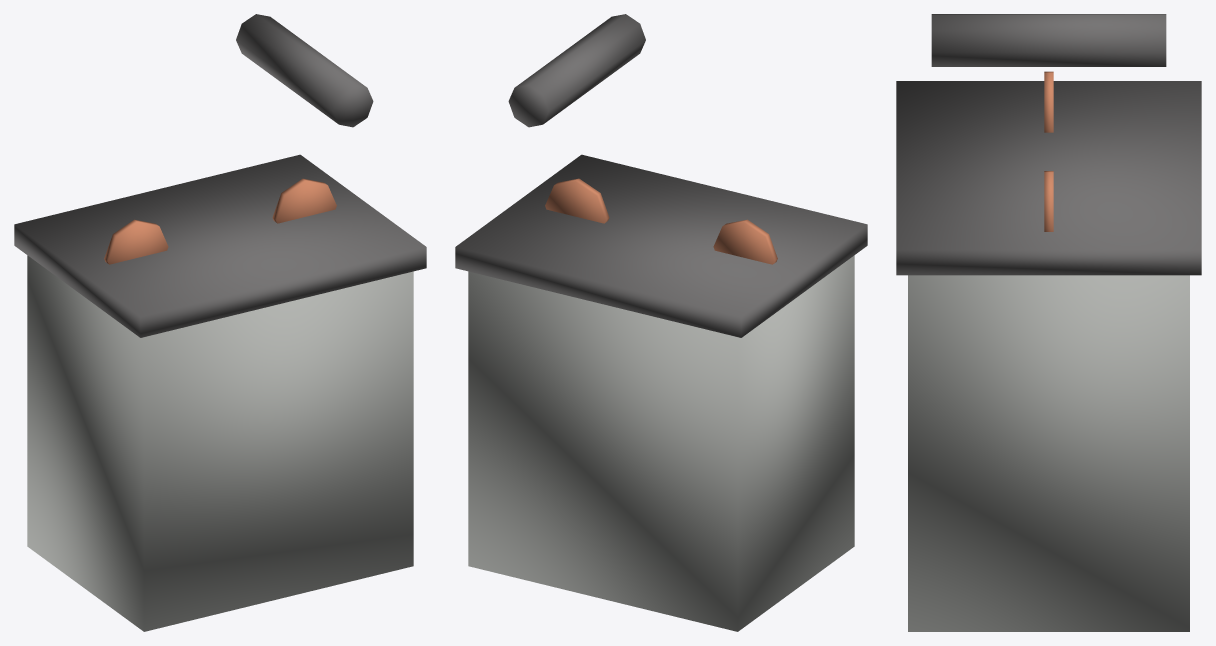
File: furn_stove.glb
The picture shows the model from 3 angles, left to right: view 1: azimuth 30°, elevation 25°; view 2: azimuth 150°, elevation 25°; view 3: azimuth 270°, elevation 25°; orthographic projection. The views are drawn at different scales.
Visible parts, largest first — view 1: body, top, pipe, burner_0.25, burner_-0.25; view 2: body, top, pipe, burner_0.25, burner_-0.25; view 3: body, top, pipe, burner_-0.25, burner_0.25.
Boxes of the visible parts, x1,y1,x2,y2 form: body: (27, 255, 413, 631); top: (14, 154, 426, 337); pipe: (236, 14, 373, 127); burner_0.25: (272, 178, 336, 223); burner_-0.25: (104, 219, 168, 264); body: (468, 255, 854, 631); top: (455, 154, 867, 337); pipe: (508, 14, 645, 127); burner_0.25: (545, 178, 609, 223); burner_-0.25: (713, 219, 777, 264); body: (908, 275, 1189, 631); top: (896, 81, 1201, 275); pipe: (931, 14, 1166, 66); burner_-0.25: (1044, 71, 1053, 132); burner_0.25: (1044, 171, 1053, 231).
Size of the model in its own units: 0.85 by 1.38 by 0.65.
